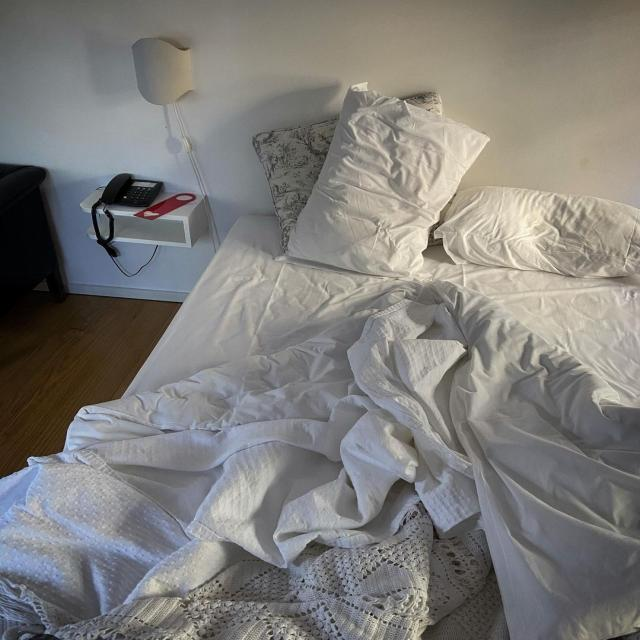bed: (0, 109, 631, 640)
